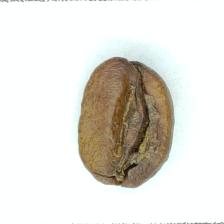NG: (106, 76, 160, 177)
